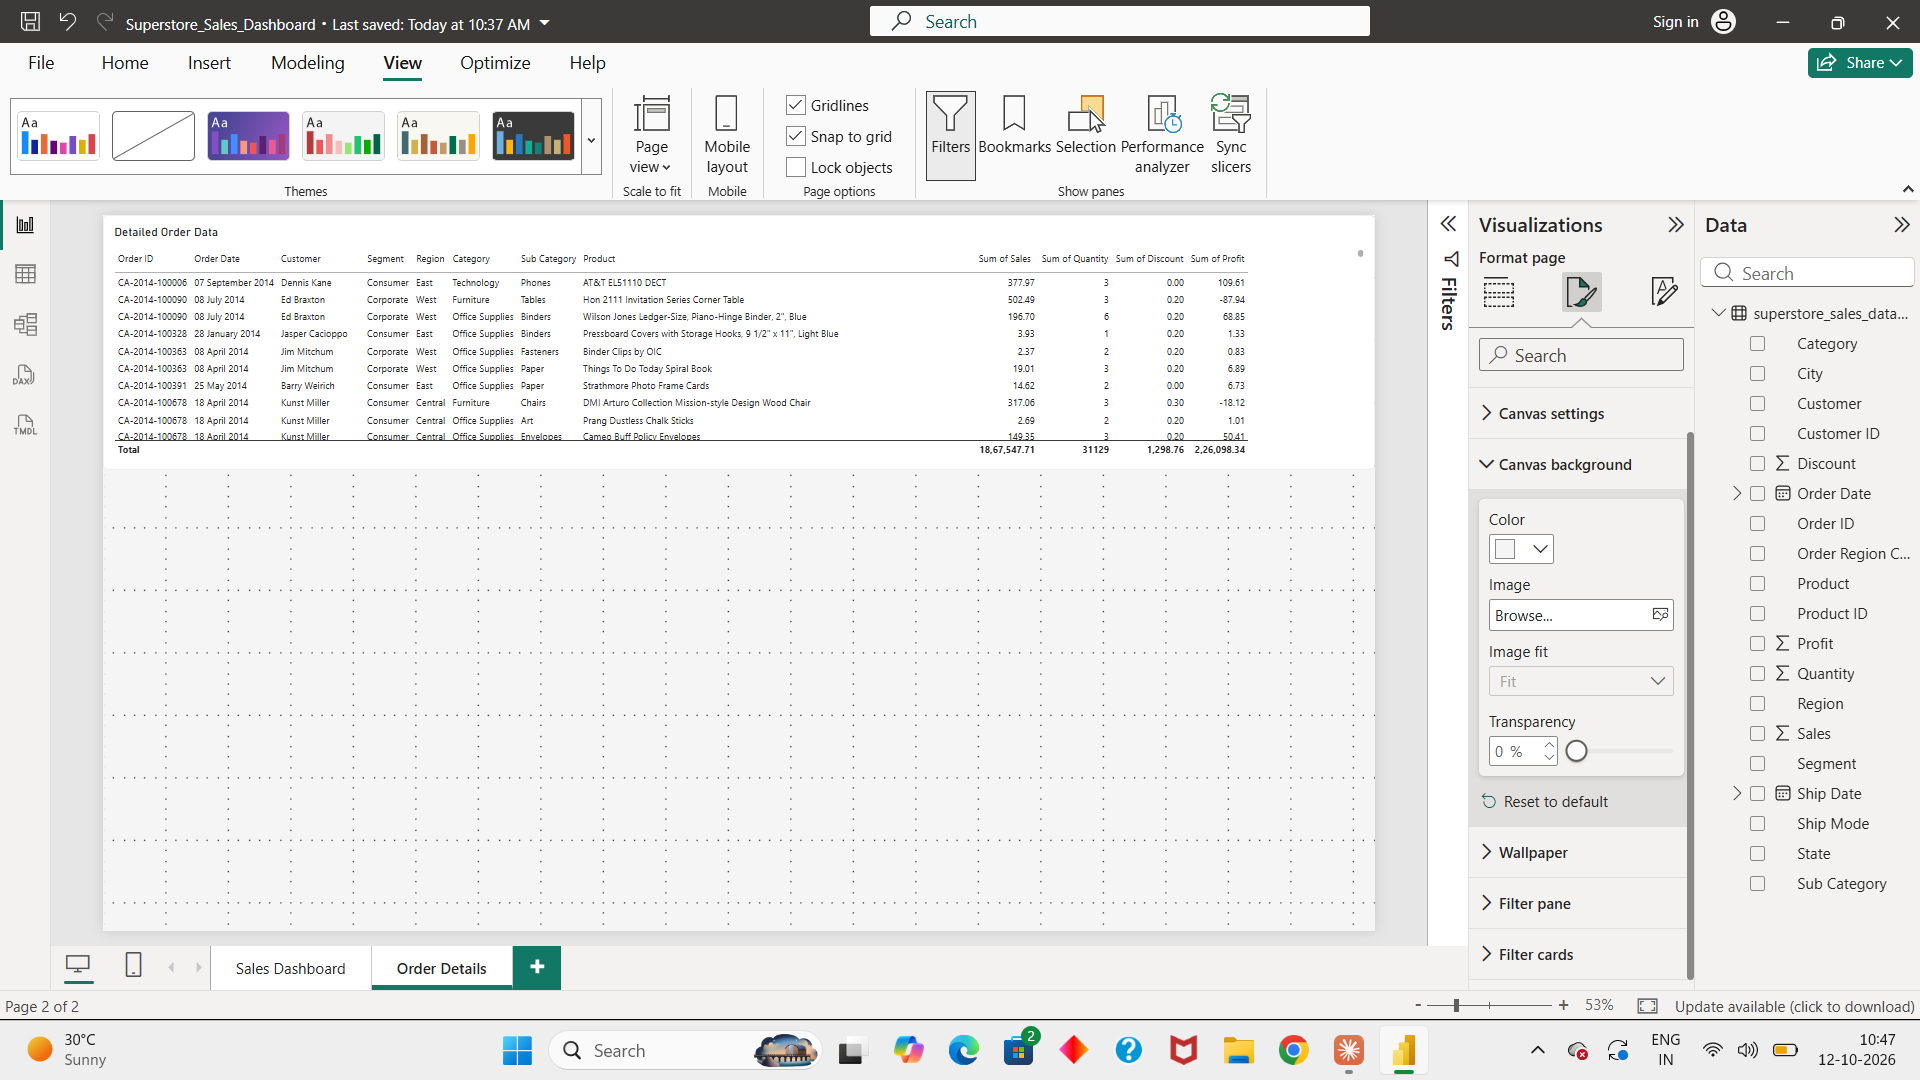

What the dashboard file says about the page in this screenshot:
{"tool":"powerbi","page":{"name":"Order Details","canvas":[1920,1080],"ordinal":1},"visuals":[{"type":"tableEx","title":"Detailed Order Data","fields":{"Values":["superstore_sales_dataset.Order ID","superstore_sales_dataset.Order Date","superstore_sales_dataset.Customer","superstore_sales_dataset.Segment","superstore_sales_dataset.Region","superstore_sales_dataset.Category","superstore_sales_dataset.Sub Category","superstore_sales_dataset.Product","Sum(superstore_sales_dataset.Sales)","Sum(superstore_sales_dataset.Quantity)","Sum(superstore_sales_dataset.Discount)","Sum(superstore_sales_dataset.Profit)"]},"box":[0,0,1920.1,1080.4],"z":0}]}

Visuals, with their boxes on the page's 1920x1080 design canvas (x1, y1, x2, y2). These are canvas units, not pixel positions in the 1920x1080 screenshot, which may show the page scaled, cropped or inside an application window:
"Detailed Order Data" tableEx: (left=0, top=0, right=1920, bottom=1080)
